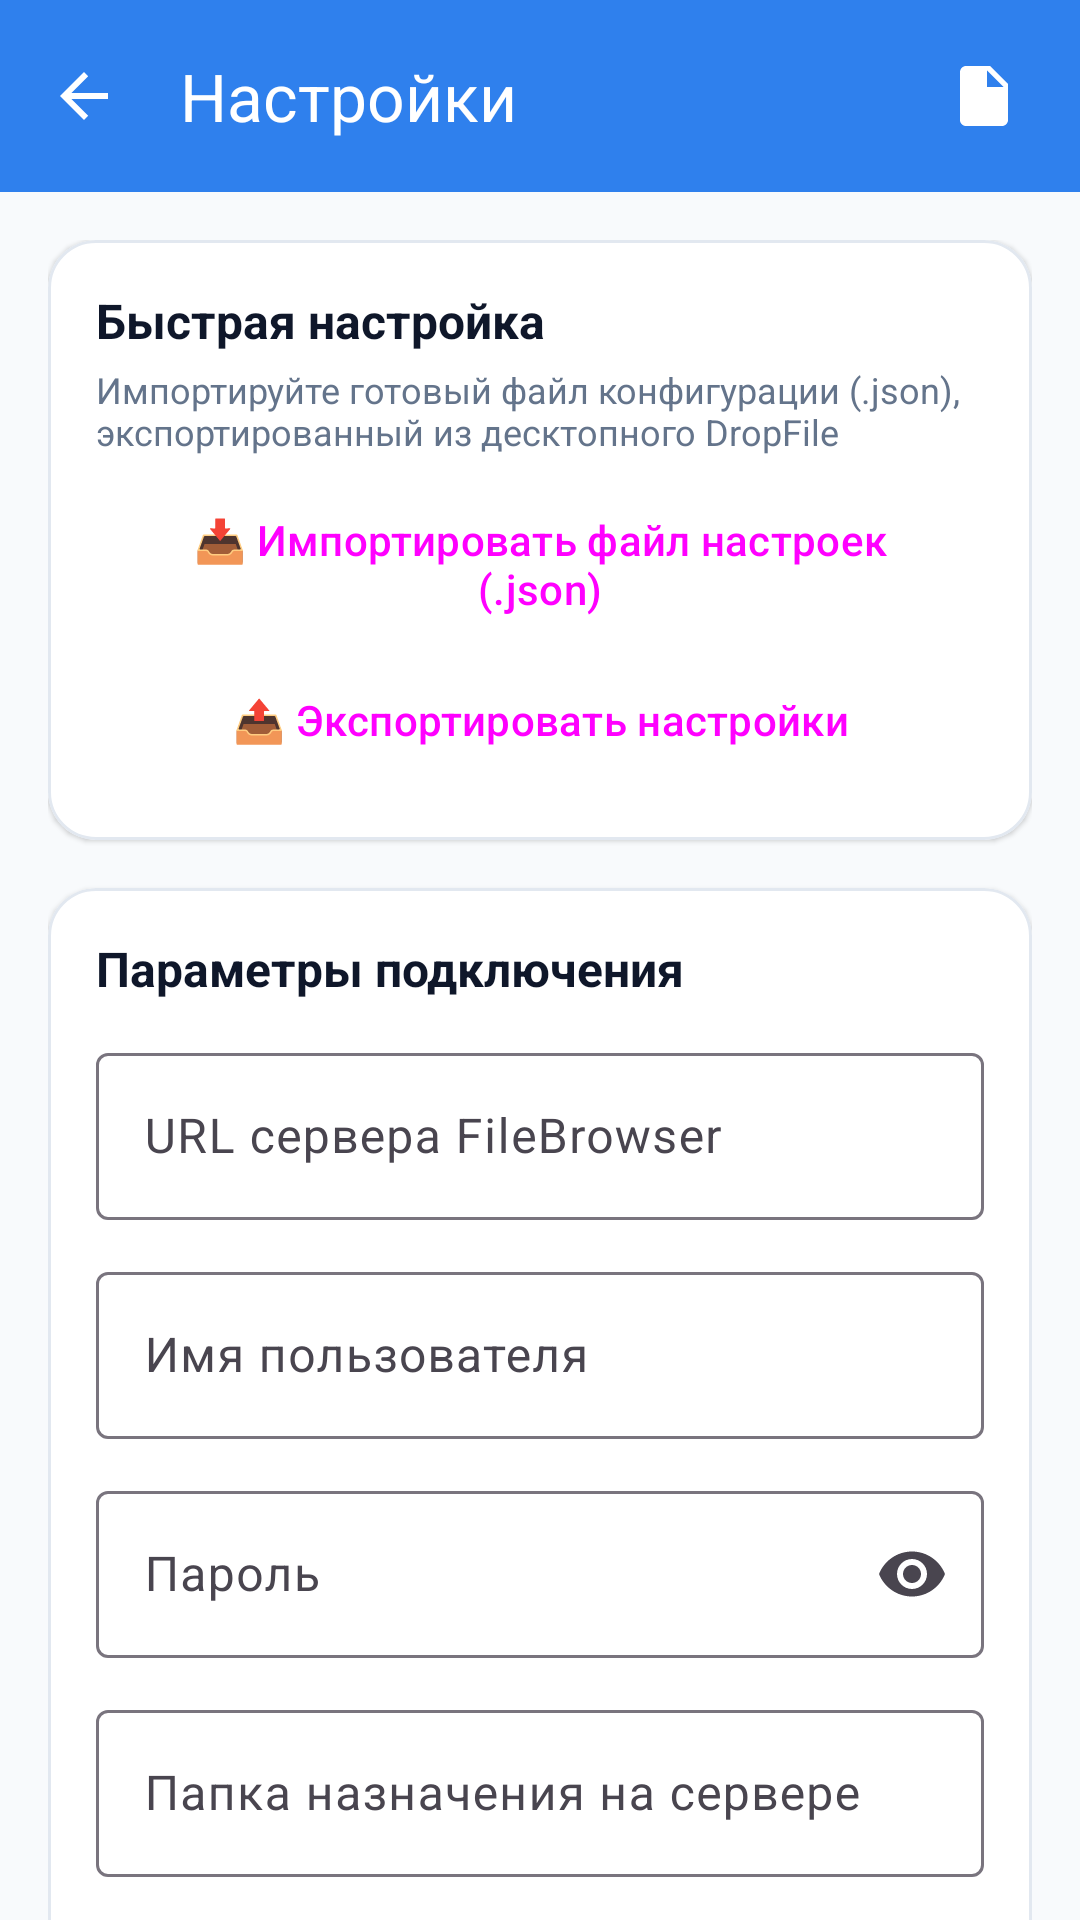

Screen size 1080px×1920px. Icon name, then its center in pixels as (x,y):
Логи: (984,96)
